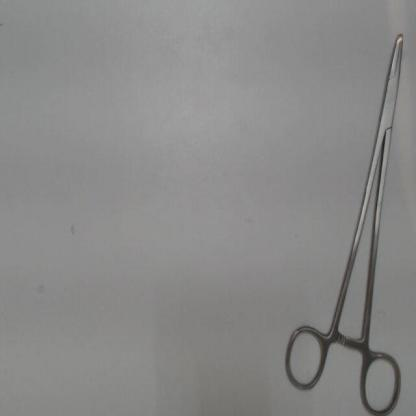8 Mayo Needle Holder: (276, 18, 412, 415)
